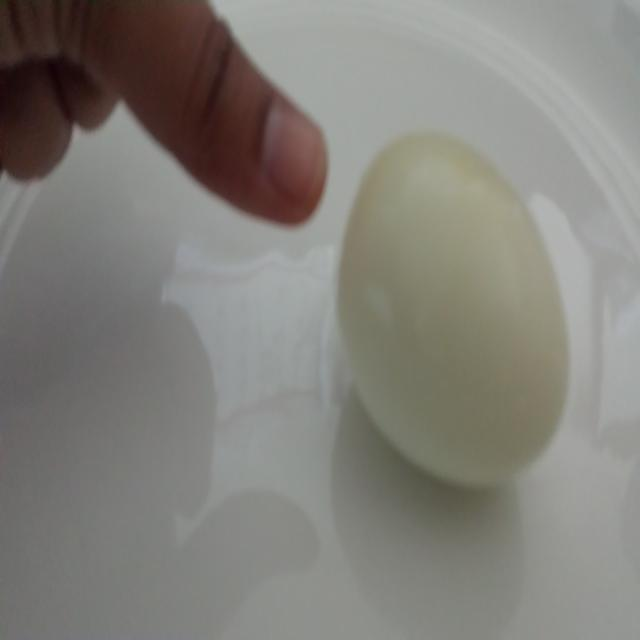egg: (334, 122, 578, 497)
